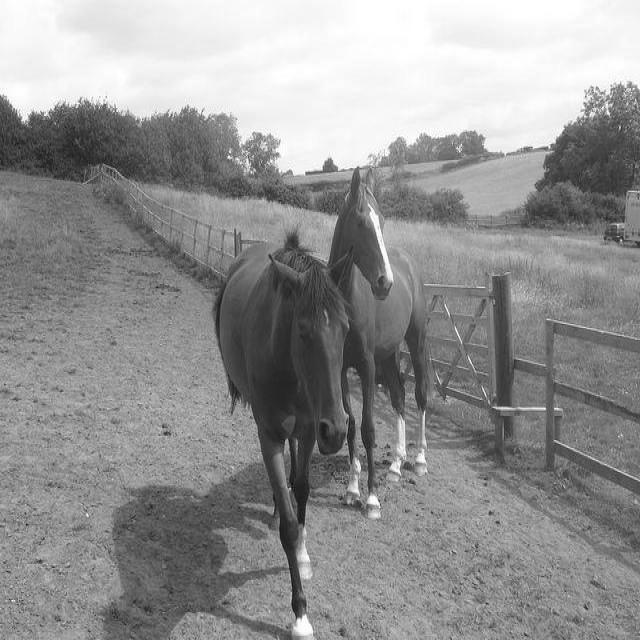vehicle: (624, 192, 640, 242), (603, 223, 628, 246)
